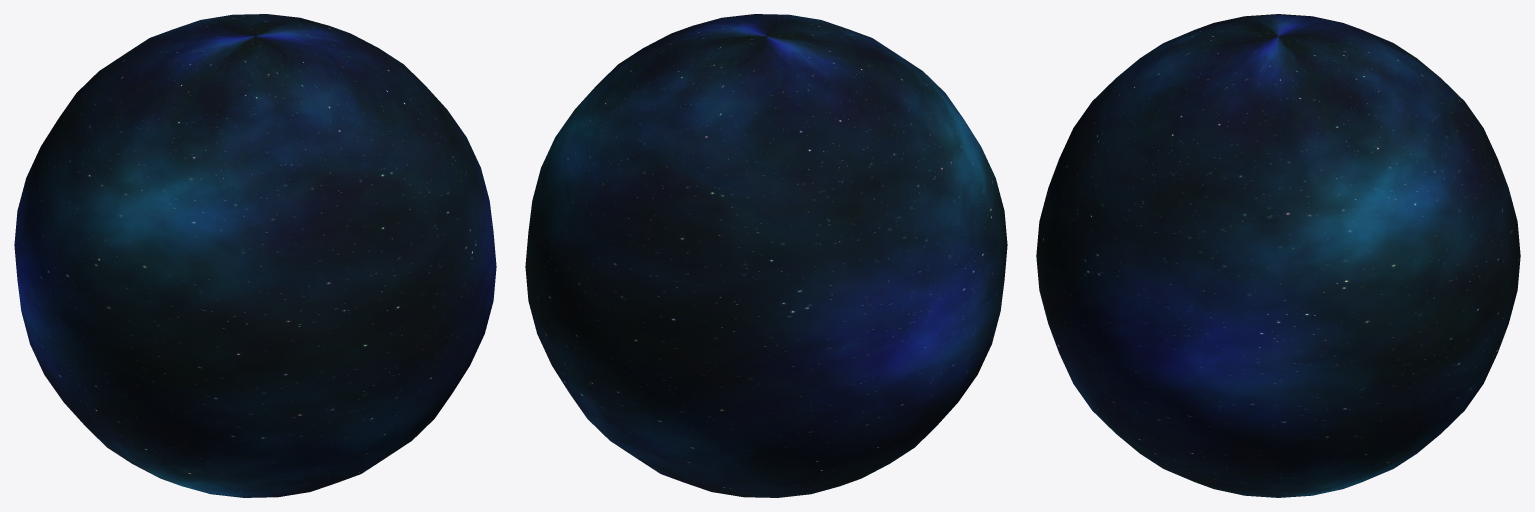
The model's file is space.fbx.
3 views of the same model, side by side, from view 1: azimuth 30°, elevation 25°; view 2: azimuth 150°, elevation 25°; view 3: azimuth 270°, elevation 25° (orthographic).
Visible parts, largest first — view 1: pSphere1; view 2: pSphere1; view 3: pSphere1.
Part boxes in pixels (x1=…): pSphere1: x1=14, y1=14, x2=496, y2=497; pSphere1: x1=525, y1=14, x2=1007, y2=497; pSphere1: x1=1036, y1=14, x2=1520, y2=497.
Size of the model in its own units: 40.5 by 40.5 by 40.5.
